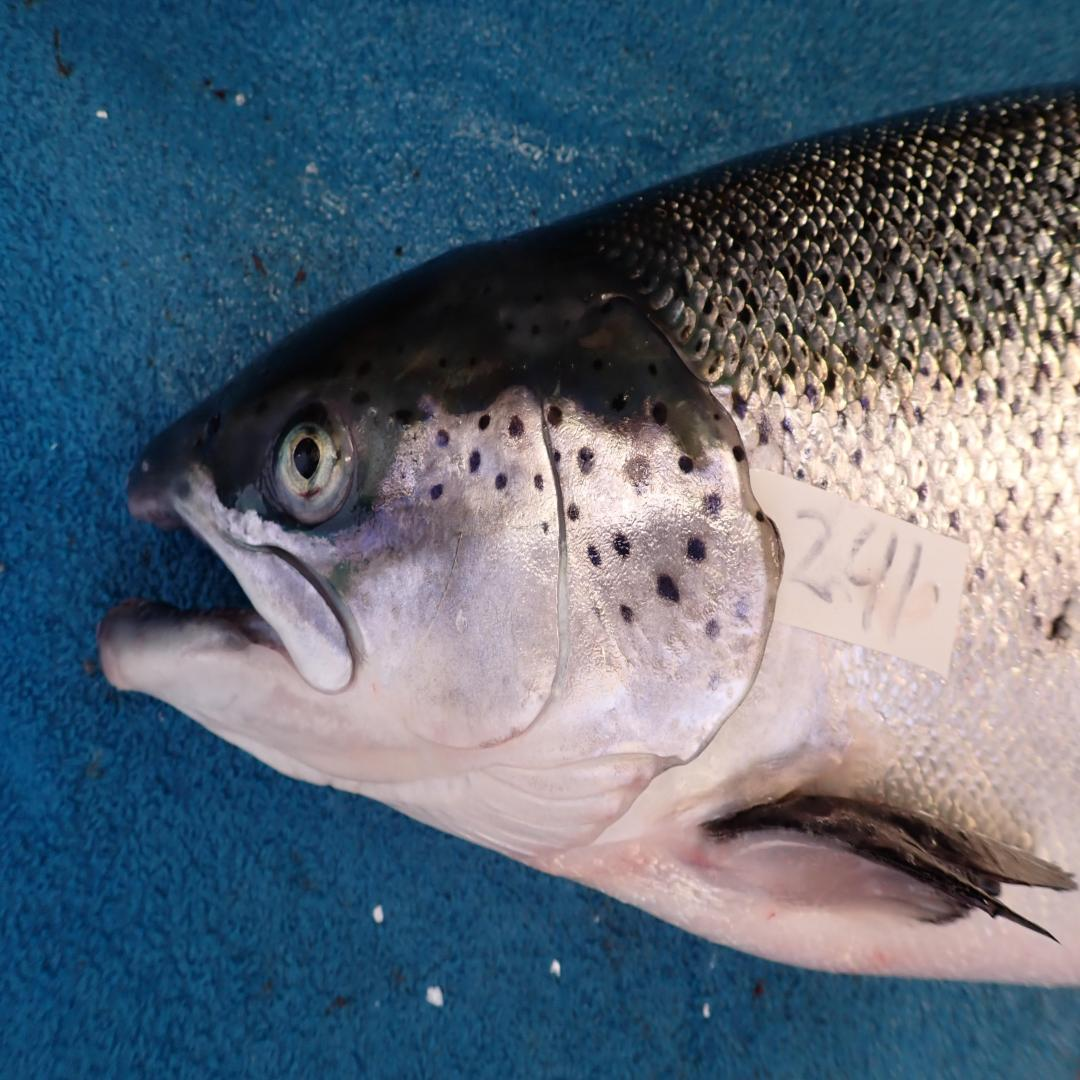spot: (624, 455, 650, 486), (656, 574, 679, 602), (734, 591, 753, 624), (686, 537, 707, 562), (705, 492, 724, 518), (578, 447, 595, 475), (614, 532, 631, 557), (392, 408, 416, 425), (546, 405, 563, 428), (705, 619, 721, 641), (707, 667, 721, 692), (652, 402, 667, 425), (508, 416, 523, 439), (468, 450, 481, 472), (679, 456, 694, 472), (437, 428, 449, 447), (589, 546, 601, 565), (430, 484, 443, 501), (567, 503, 580, 520), (620, 605, 633, 622), (732, 444, 745, 461), (755, 506, 768, 523), (479, 413, 489, 430), (496, 472, 506, 489), (534, 472, 544, 489), (553, 450, 561, 461), (542, 520, 548, 534)
